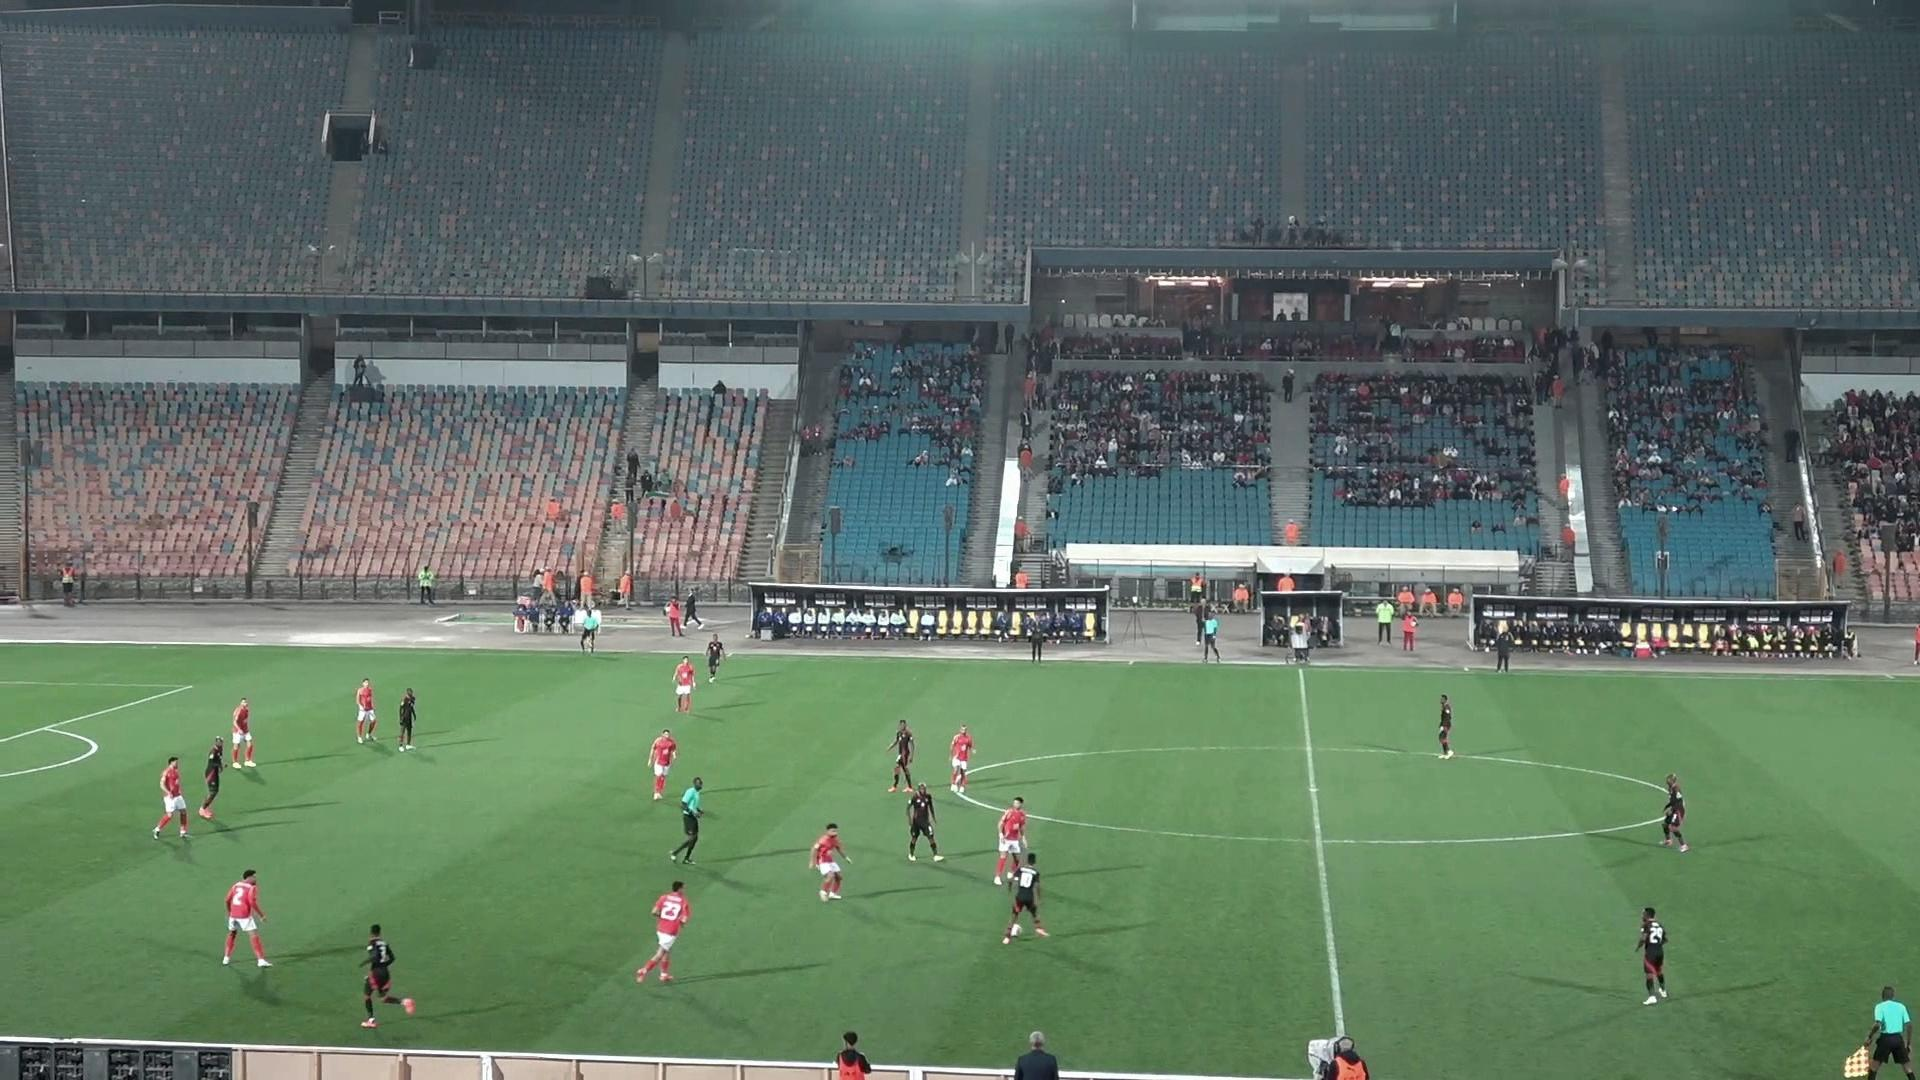Ball: (1004, 918, 1023, 944)
Refree: (1842, 985, 1913, 1079), (670, 777, 703, 862), (1196, 605, 1220, 661), (578, 603, 601, 651)
Team1: (636, 880, 690, 982), (222, 872, 272, 968), (993, 796, 1029, 884), (152, 757, 189, 837), (808, 823, 847, 899), (649, 731, 676, 800), (949, 725, 973, 793), (673, 655, 696, 713), (356, 679, 376, 741)
Team2: (361, 924, 413, 1029), (1636, 906, 1667, 1004), (906, 785, 942, 861), (198, 736, 227, 819), (1662, 774, 1688, 851), (887, 720, 915, 790), (396, 688, 417, 752), (704, 632, 727, 680), (1437, 694, 1452, 757)
